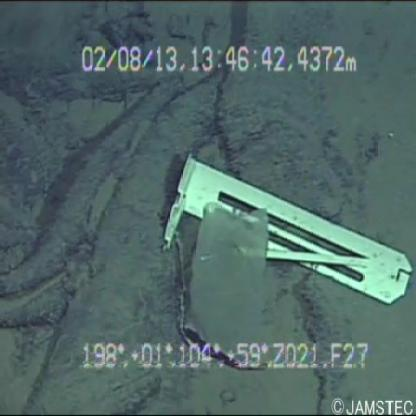Rác: (140, 151, 416, 325)
